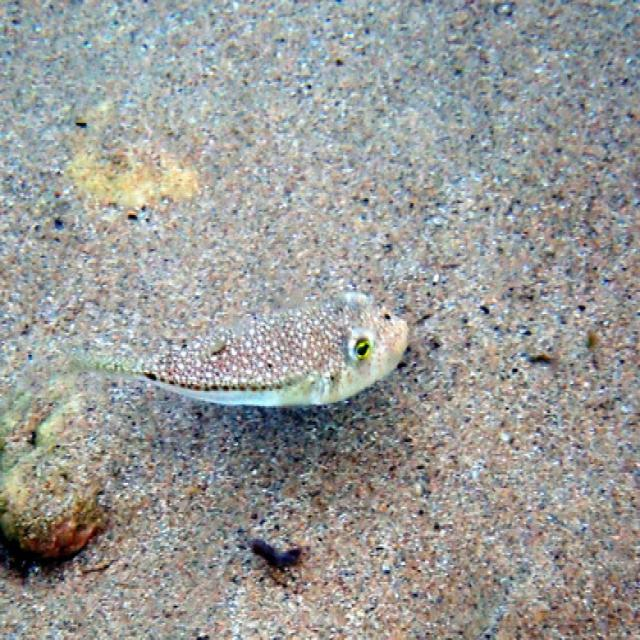Balik: (98, 292, 408, 406)
